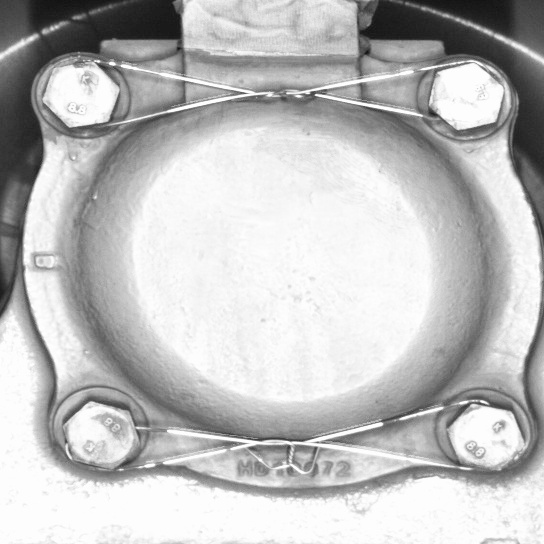IronWire: (54, 391, 531, 479), (32, 53, 512, 138)
Screw: (33, 53, 126, 139), (54, 392, 146, 476), (437, 395, 530, 478), (421, 54, 511, 137)
